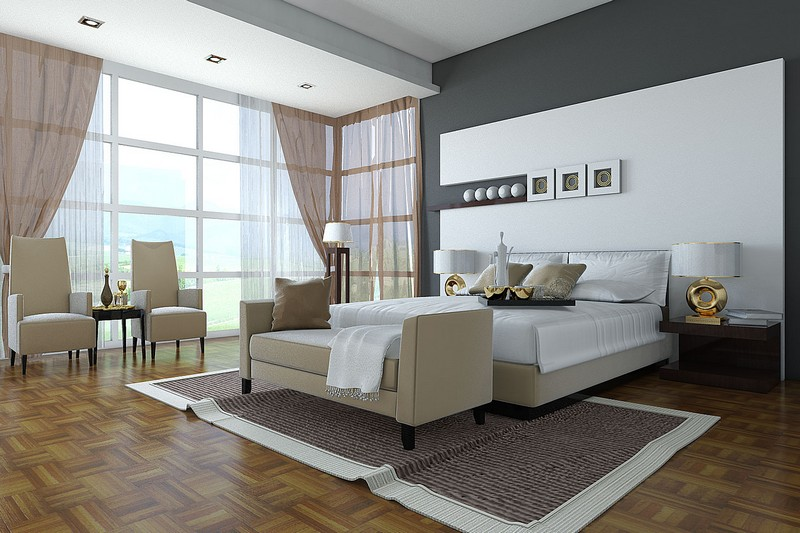bed: (329, 249, 673, 419)
chair: (7, 234, 97, 380), (129, 239, 207, 369)
lamp: (669, 241, 743, 326), (324, 222, 352, 308), (433, 247, 478, 298)
sofa: (238, 277, 495, 450)
table: (662, 318, 782, 392), (90, 304, 149, 370)
